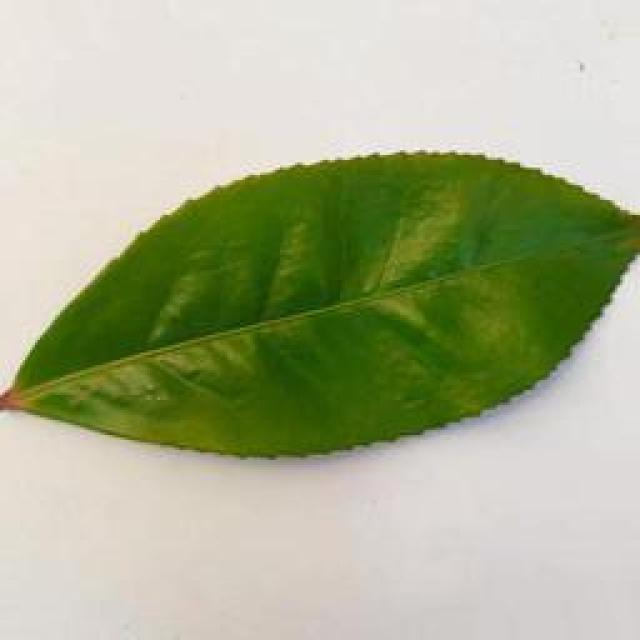Healthy: (0, 137, 640, 483)
